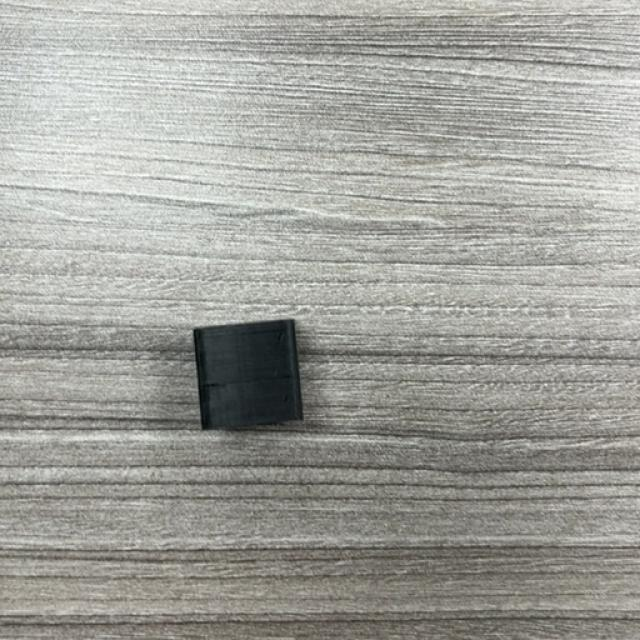Negro: (191, 319, 304, 431)
